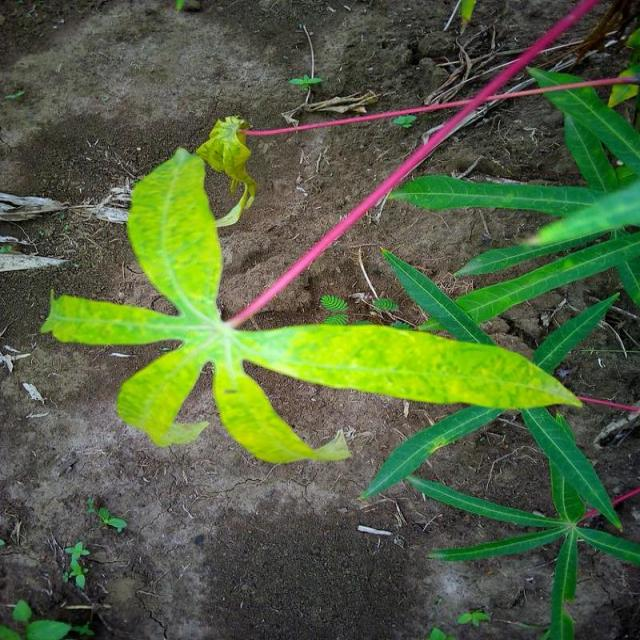cassava leaf: (41, 139, 584, 466)
